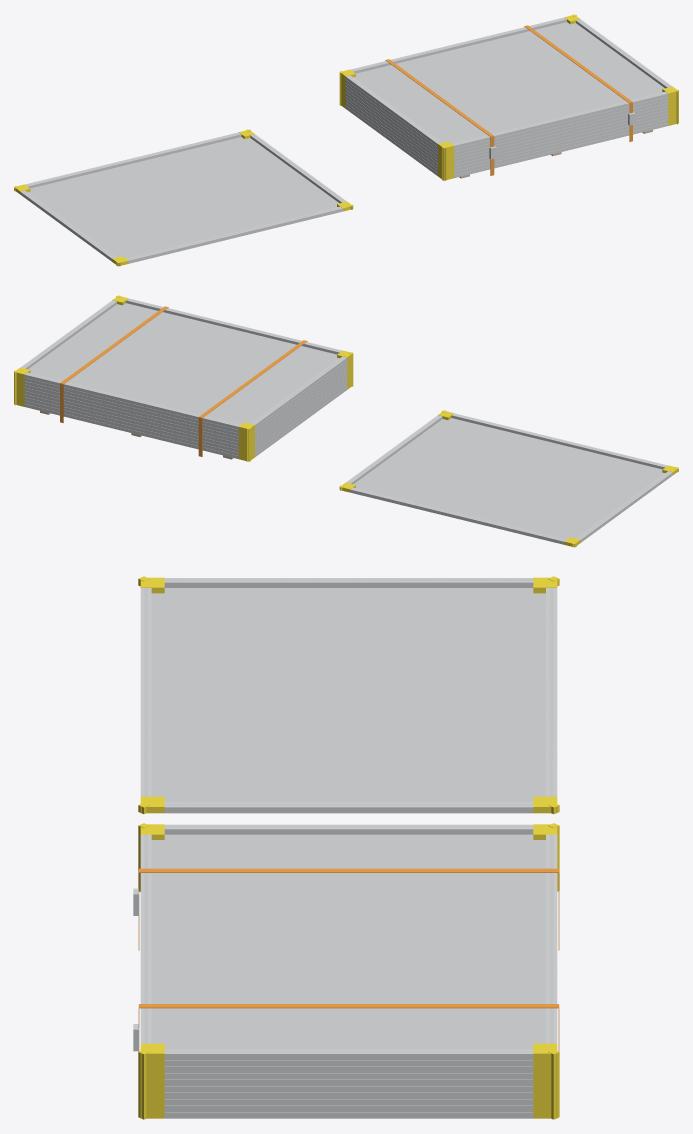
Rendered from AlumminiumPallets.fbx.
3 renders of one model, top to bottom at view 1: azimuth 30°, elevation 25°; view 2: azimuth 150°, elevation 25°; view 3: azimuth 270°, elevation 25°, orthographic. The views are drawn at different scales.
Parts seen in each view (by area): view 1: AeroPallet_Warehouse_Stack_10x, AeroPallet_PMC_Single; view 2: AeroPallet_Warehouse_Stack_10x, AeroPallet_PMC_Single; view 3: AeroPallet_Warehouse_Stack_10x, AeroPallet_PMC_Single.
Boxes of the visible parts, x1,y1,x2,y2 form: AeroPallet_Warehouse_Stack_10x: (339,14,678,180); AeroPallet_PMC_Single: (14,129,353,266); AeroPallet_Warehouse_Stack_10x: (14,295,353,461); AeroPallet_PMC_Single: (339,410,678,547); AeroPallet_Warehouse_Stack_10x: (133,823,559,1119); AeroPallet_PMC_Single: (138,576,559,814).
Size of the model in its own units: 760 by 50.55 by 249.
